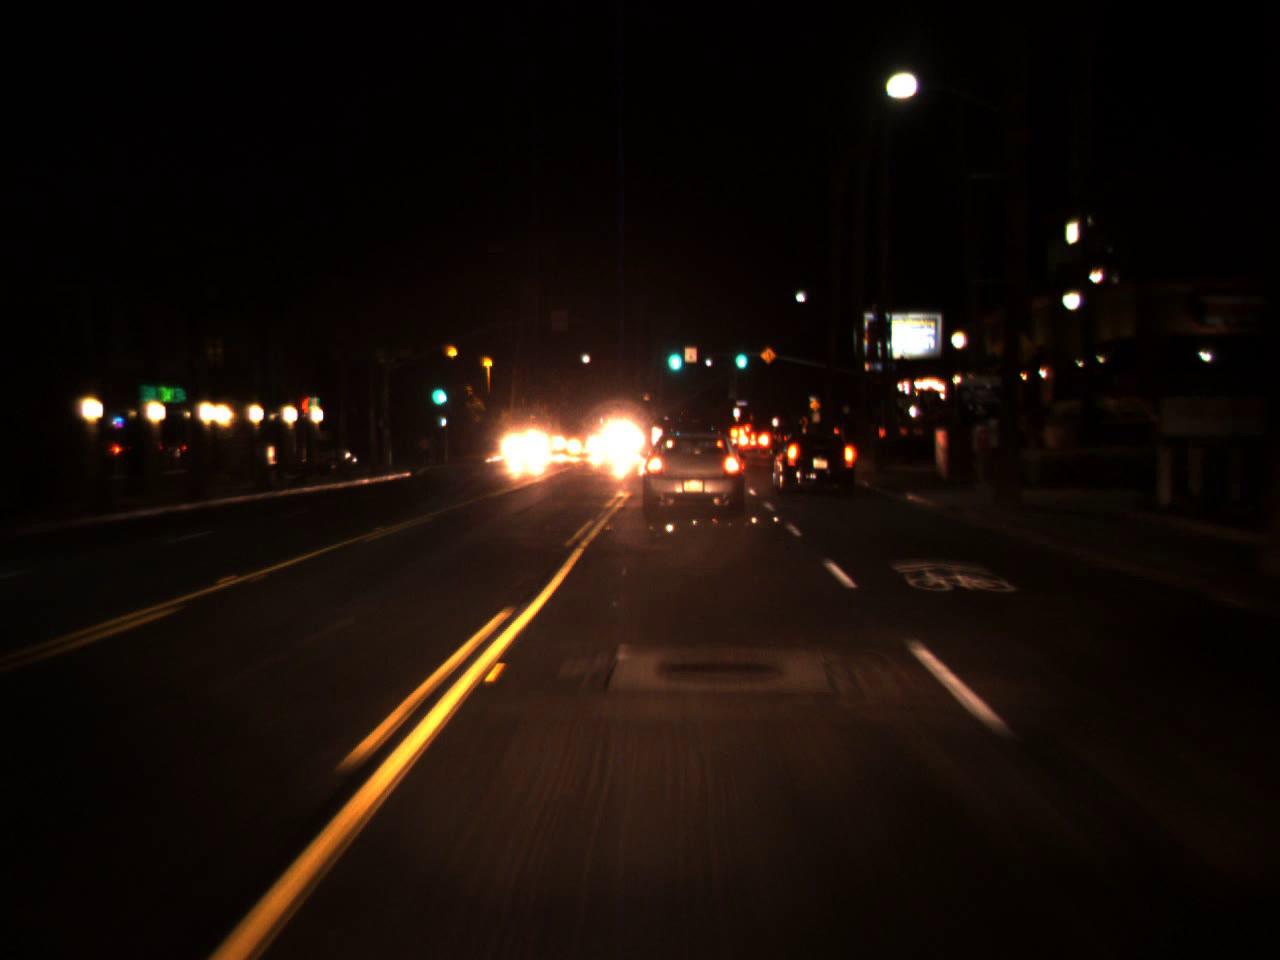go: (663, 332, 684, 377), (427, 369, 447, 411), (731, 340, 749, 370)
